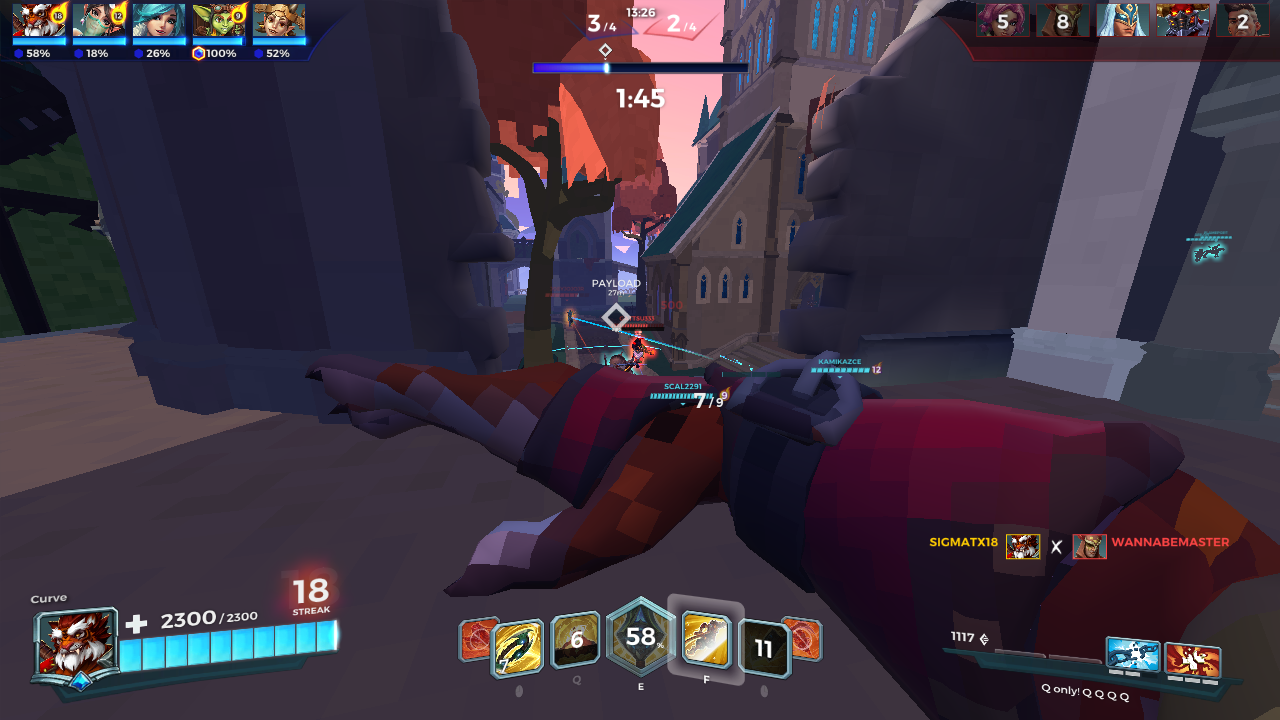model: (625, 332, 651, 367), (562, 309, 577, 331)
